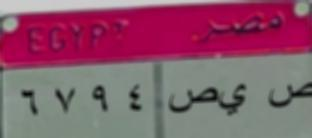4: (121, 77, 148, 120)
6: (20, 83, 42, 119)
7: (52, 83, 80, 116)
9: (89, 81, 111, 118)
saad: (163, 75, 219, 116), (266, 76, 312, 108)
yaa: (220, 77, 255, 118)
